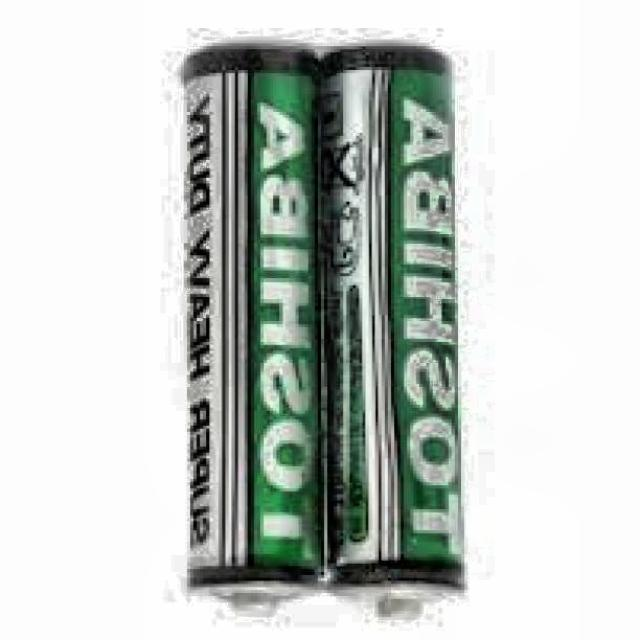Non-Valuable Waste - Batteries: (184, 52, 461, 620)
